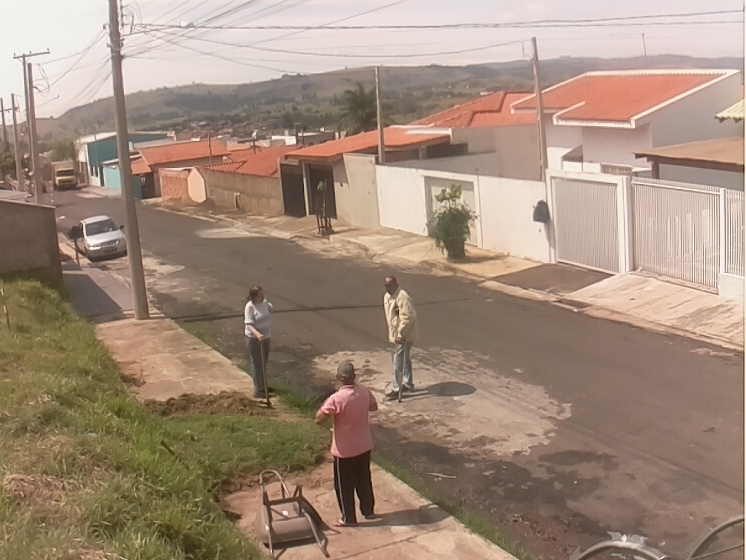person: (314, 362, 379, 526), (383, 275, 417, 396), (243, 285, 277, 398)
